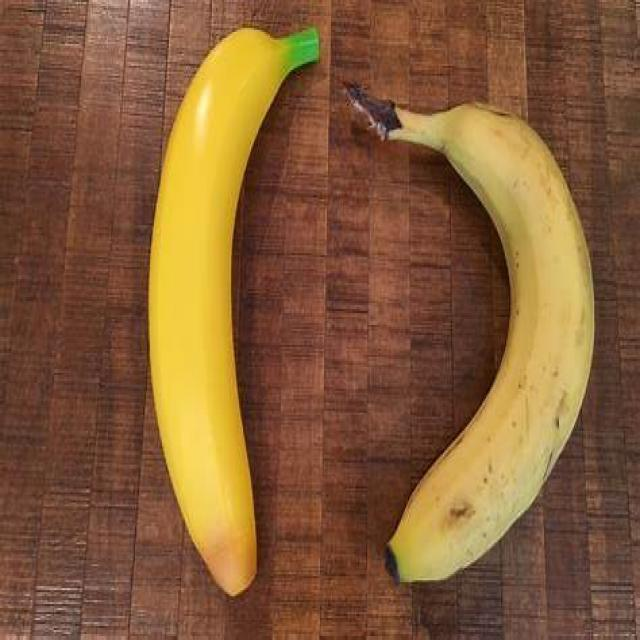Banana: (348, 80, 602, 596), (146, 27, 322, 594)
